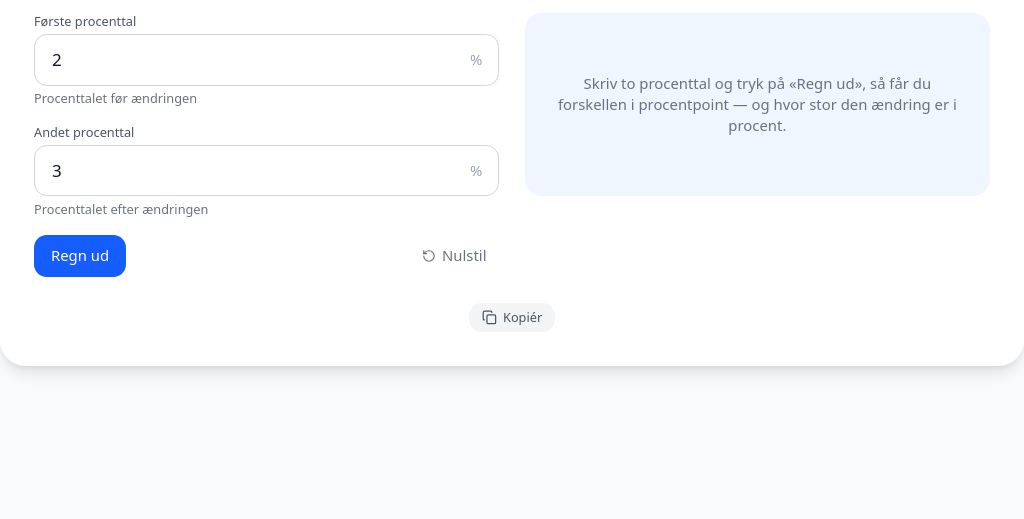
Test case: et gammelt procenttal på 0 › procentpoint kan stadig regnes, den procentvise ændring kan ikke
Replace the text in the number field labelled "Første procenttal" with "0" at (267, 60), box left=34, top=34, right=499, bottom=86
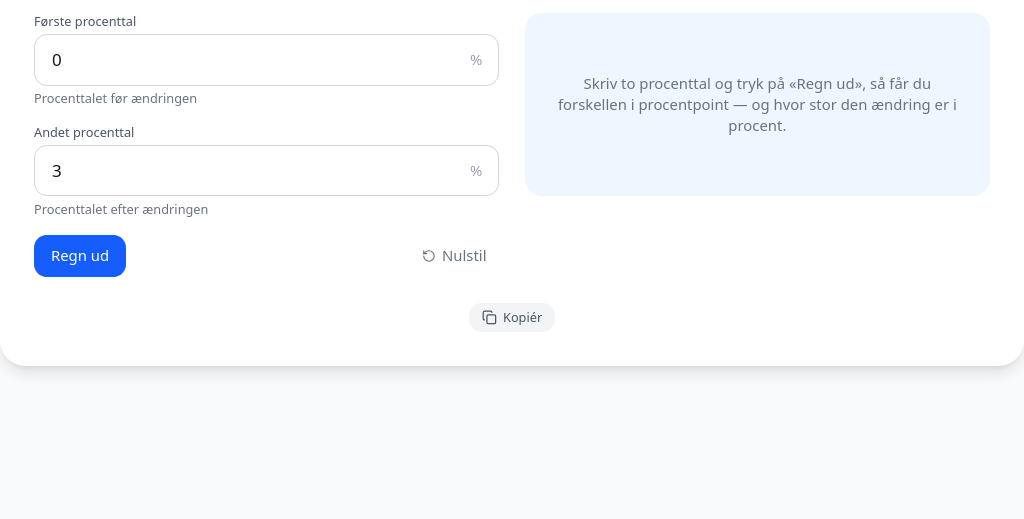
Replace the text in the number field labelled "Andet procenttal" with "2.5" at (267, 171), box left=34, top=145, right=499, bottom=196
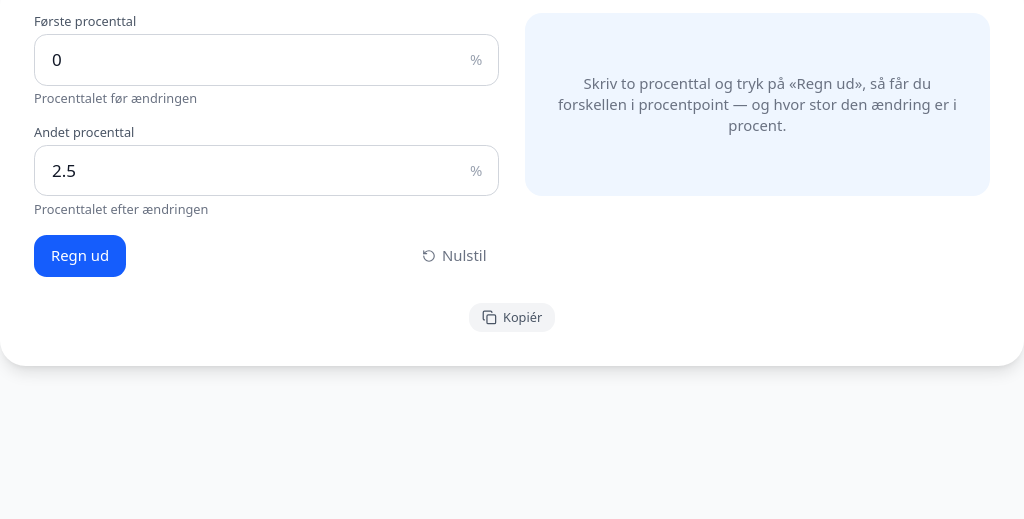
Click the button "Regn ud" at (80, 256), box left=34, top=234, right=126, bottom=277
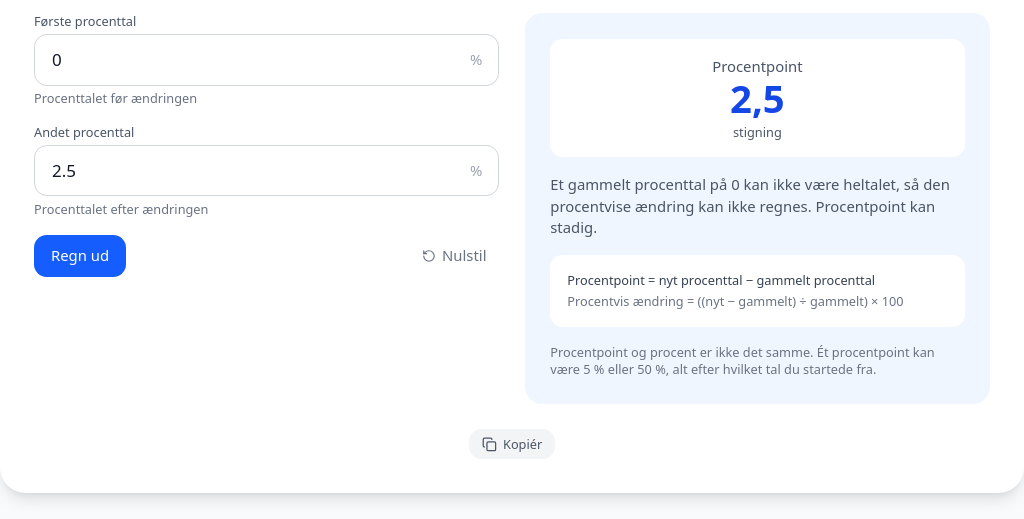
expect the text "2,5" is shown: met, box left=730, top=72, right=785, bottom=124
expect the text "Et gammelt procenttal på 0 kan ikke være heltalet" is shown: met, box left=550, top=174, right=950, bottom=237
